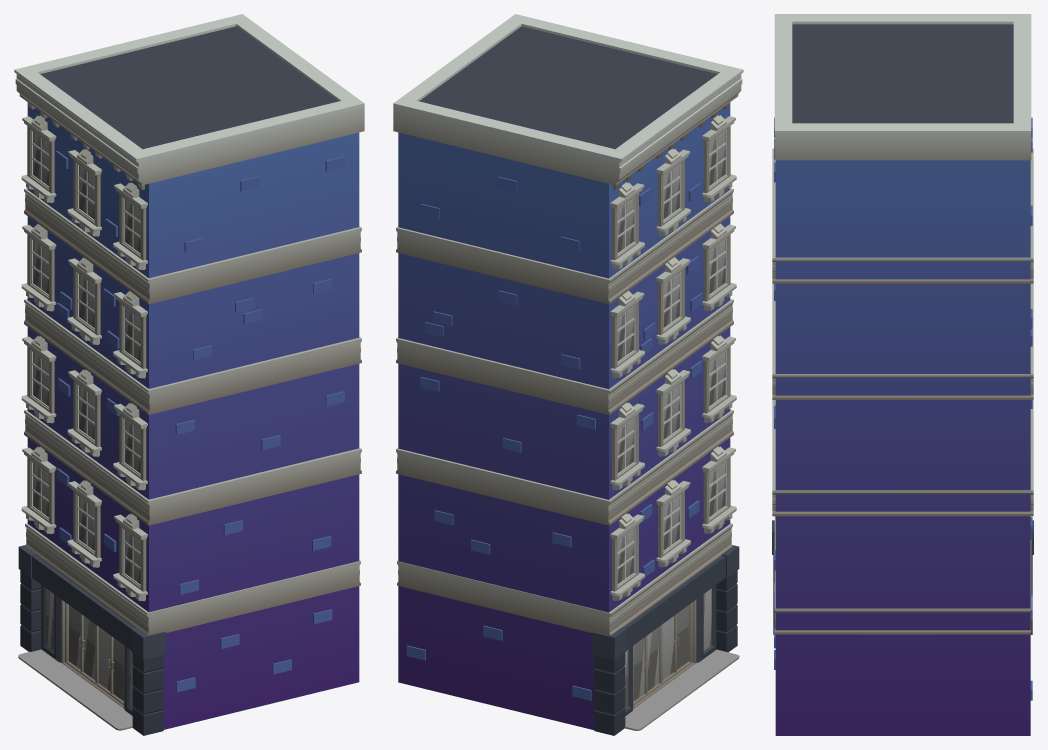
The model's file is Building_21_1_D.glb.
3 views of the same model, side by side, from view 1: azimuth 30°, elevation 25°; view 2: azimuth 150°, elevation 25°; view 3: azimuth 270°, elevation 25° (orthographic). The views are drawn at different scales.
Visible parts, largest first — view 1: Building_21_1_D; view 2: Building_21_1_D; view 3: Building_21_1_D.
Boxes of the visible parts, <box> form: Building_21_1_D: <box>14,14,364,735</box>; Building_21_1_D: <box>393,14,743,735</box>; Building_21_1_D: <box>772,14,1033,735</box>.
Size of the model in its own units: 7.79 by 18.25 by 7.13.
Materials: 3 (3 with a texture image).
